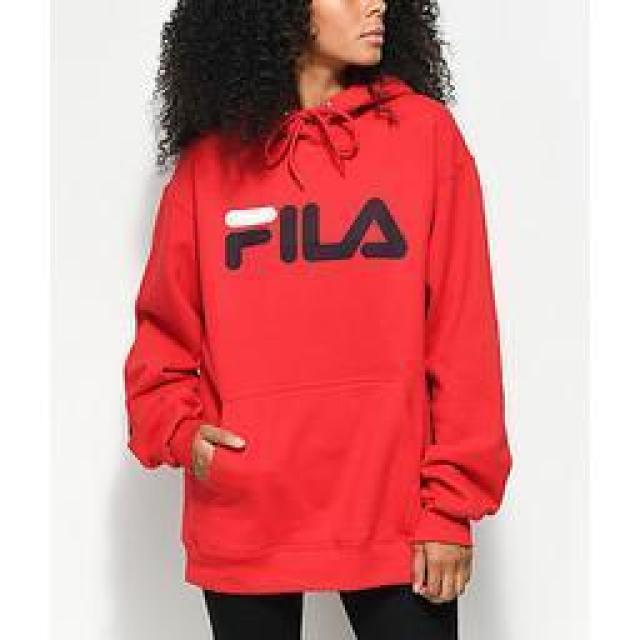sweater: (126, 74, 512, 596)
